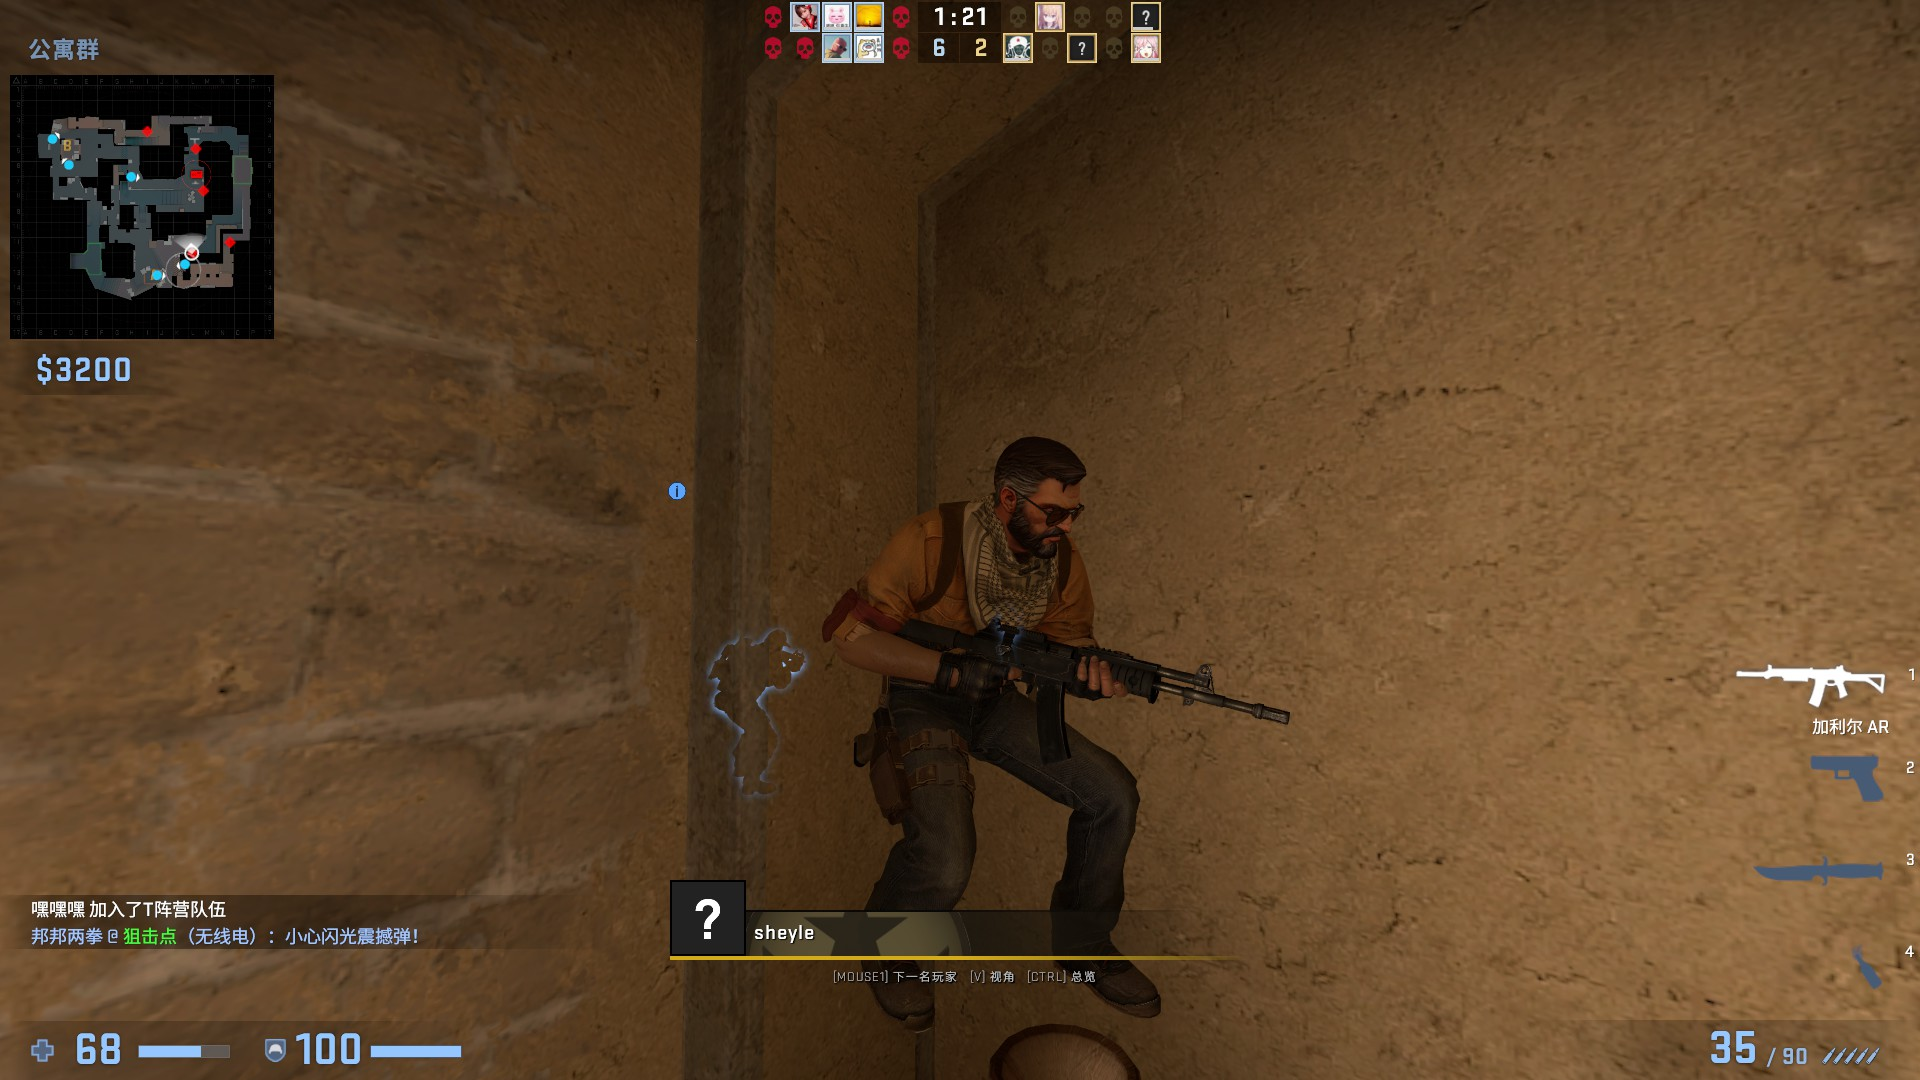head: (989, 427, 1090, 564)
